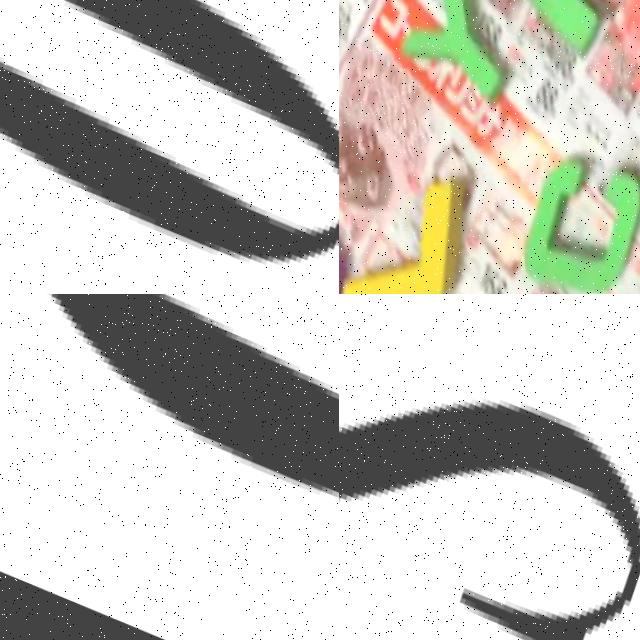C: (47, 294, 339, 498), (500, 132, 640, 294)
F: (488, 0, 640, 46)
L: (339, 149, 484, 294)
S: (339, 294, 640, 640)
Y: (388, 0, 542, 108)
